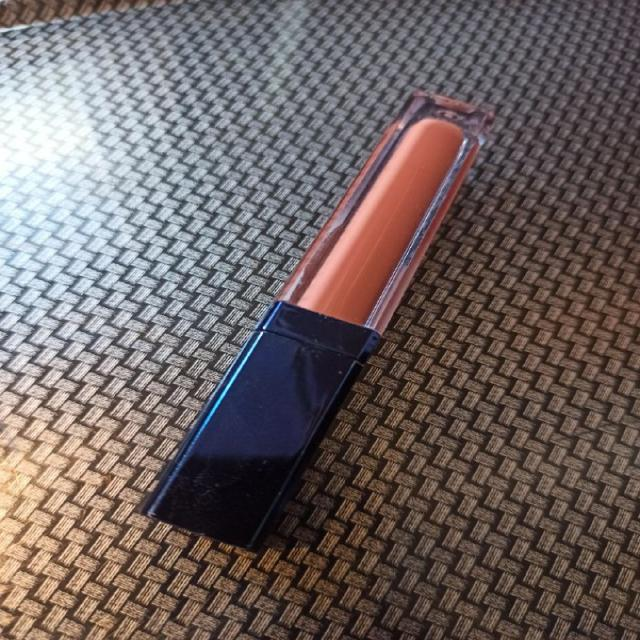lipstick: (133, 88, 495, 550)
